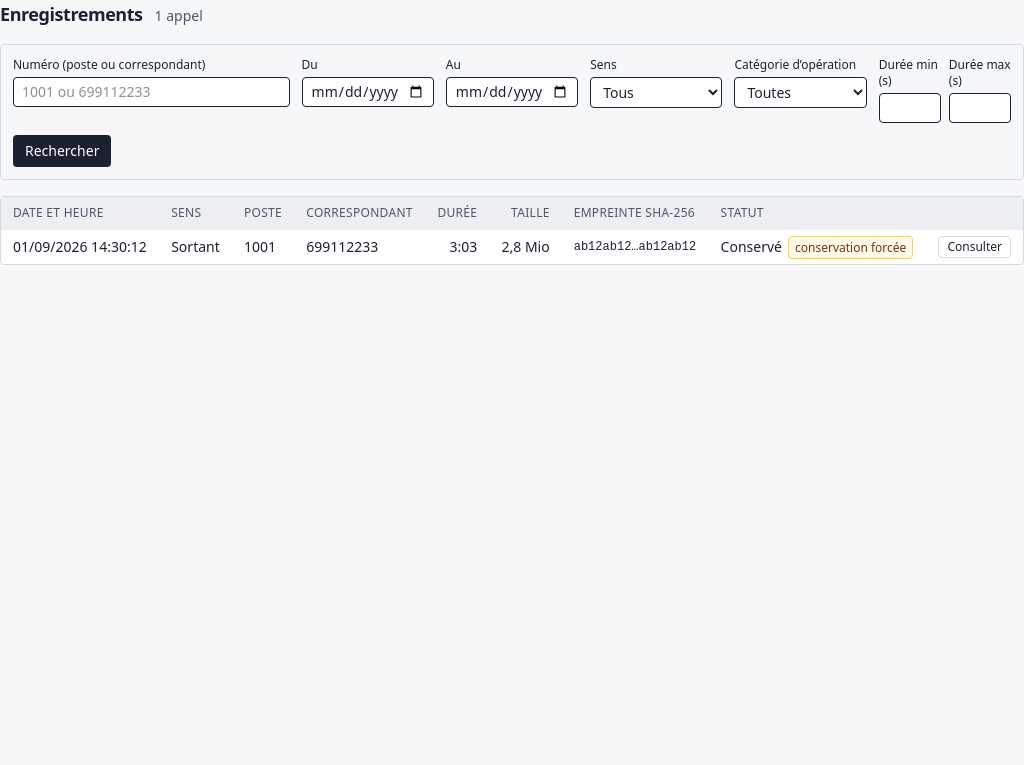
Test: conservation forcée au portail › n’offre pas de poser ni de lever à un auditeur
This screenshot has width=1024, height=765.
What coordinates should you click on to do the following:
click the button with aria-label "Consulter l’appel"
I would click on:
 (975, 247)
Its box is top-left (938, 236), bottom-right (1011, 258).
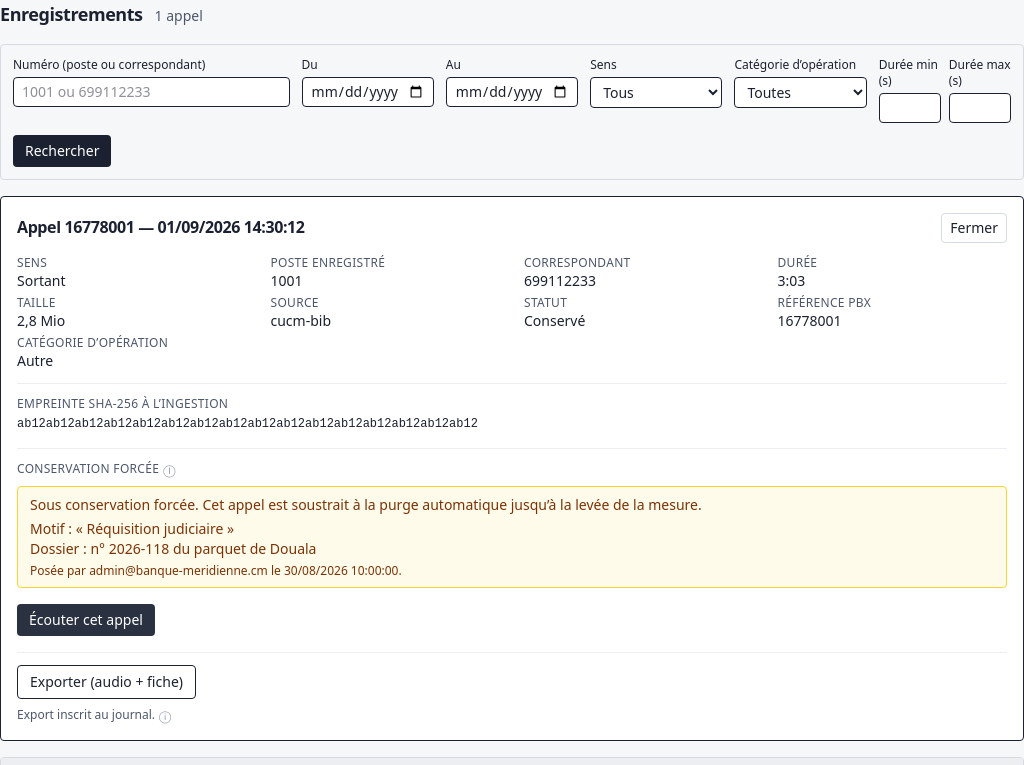
Now the message shows "Réquisition judiciaire", box top-left (86, 519), bottom-right (223, 538)
